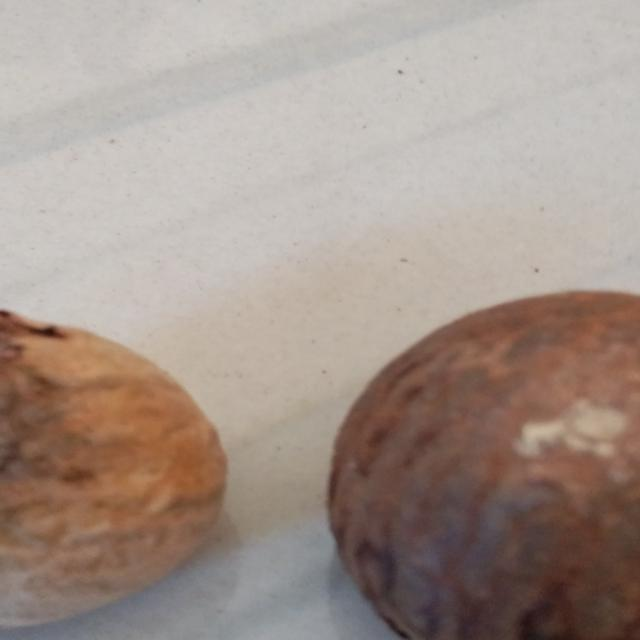karigot: (333, 293, 640, 640), (0, 302, 244, 640), (0, 305, 238, 640)
